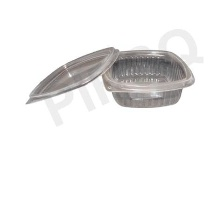plastic_box: (18, 37, 200, 114)
